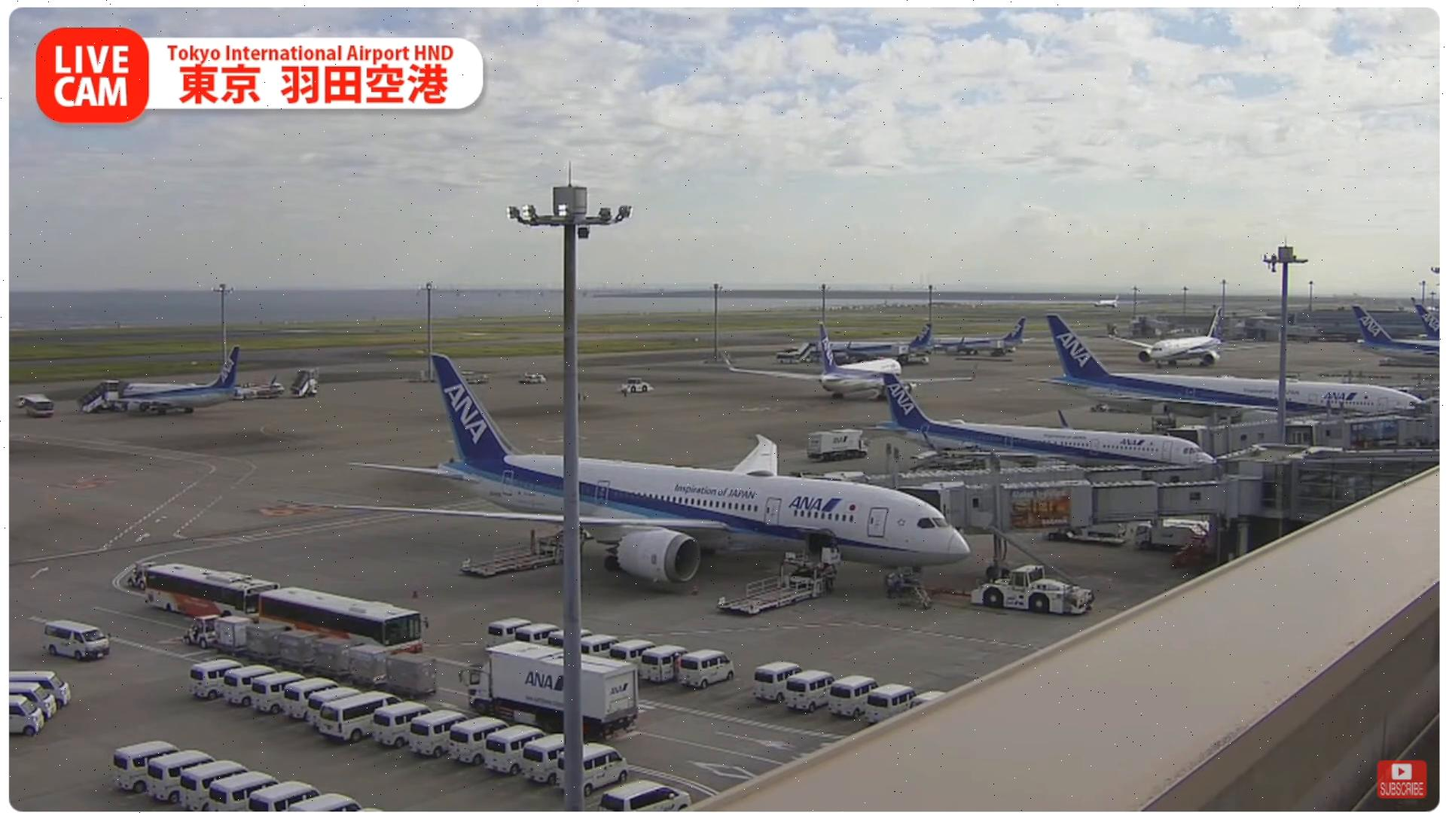APS: (969, 564, 1106, 619)
Aerobridge: (899, 476, 1264, 540), (843, 457, 1217, 496)
Airplane: (330, 354, 973, 599)
JCPL: (699, 546, 848, 617), (454, 519, 596, 582)
Window: (1290, 456, 1440, 523)
